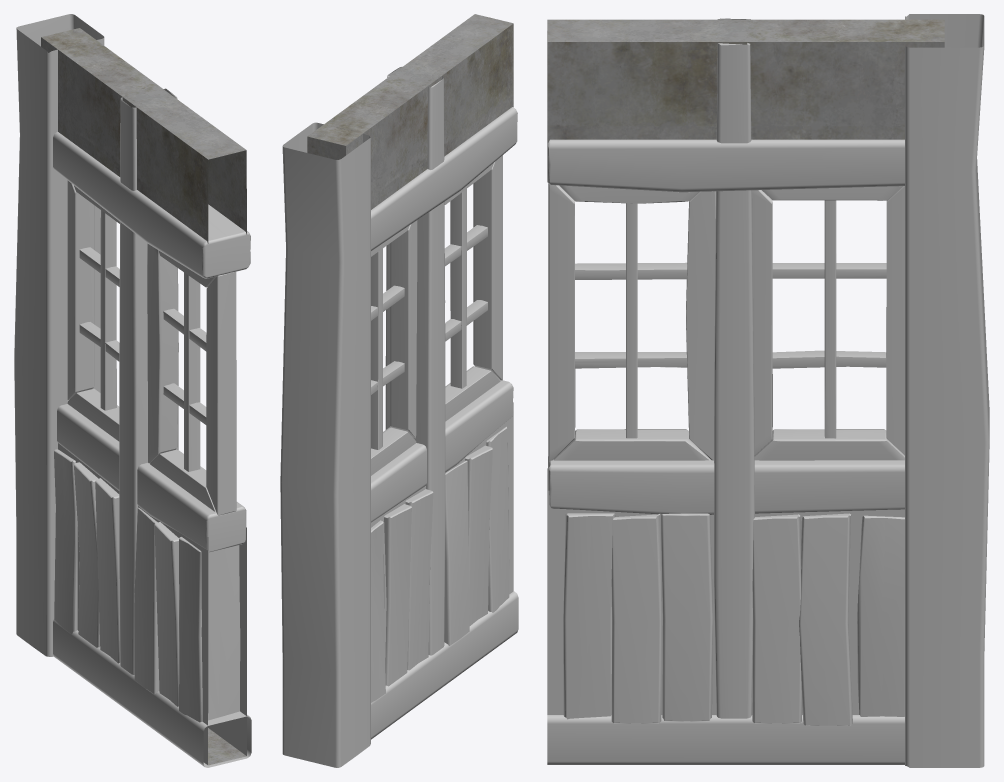
The model's file is SM_WallMedium09.fbx.
3 renders of one model, left to right at view 1: azimuth 30°, elevation 25°; view 2: azimuth 150°, elevation 25°; view 3: azimuth 270°, elevation 25°, orthographic. The views are drawn at different scales.
Parts seen in each view (by area): view 1: SM_WallMedium09_LOD0; view 2: SM_WallMedium09_LOD0; view 3: SM_WallMedium09_LOD0.
Boxes of the visible parts, left/top/right/bottom form: SM_WallMedium09_LOD0: left=14, top=14, right=251, bottom=767; SM_WallMedium09_LOD0: left=280, top=14, right=518, bottom=767; SM_WallMedium09_LOD0: left=547, top=14, right=989, bottom=767.
Bounding box in the file's own units: 30 × 167 × 301.
